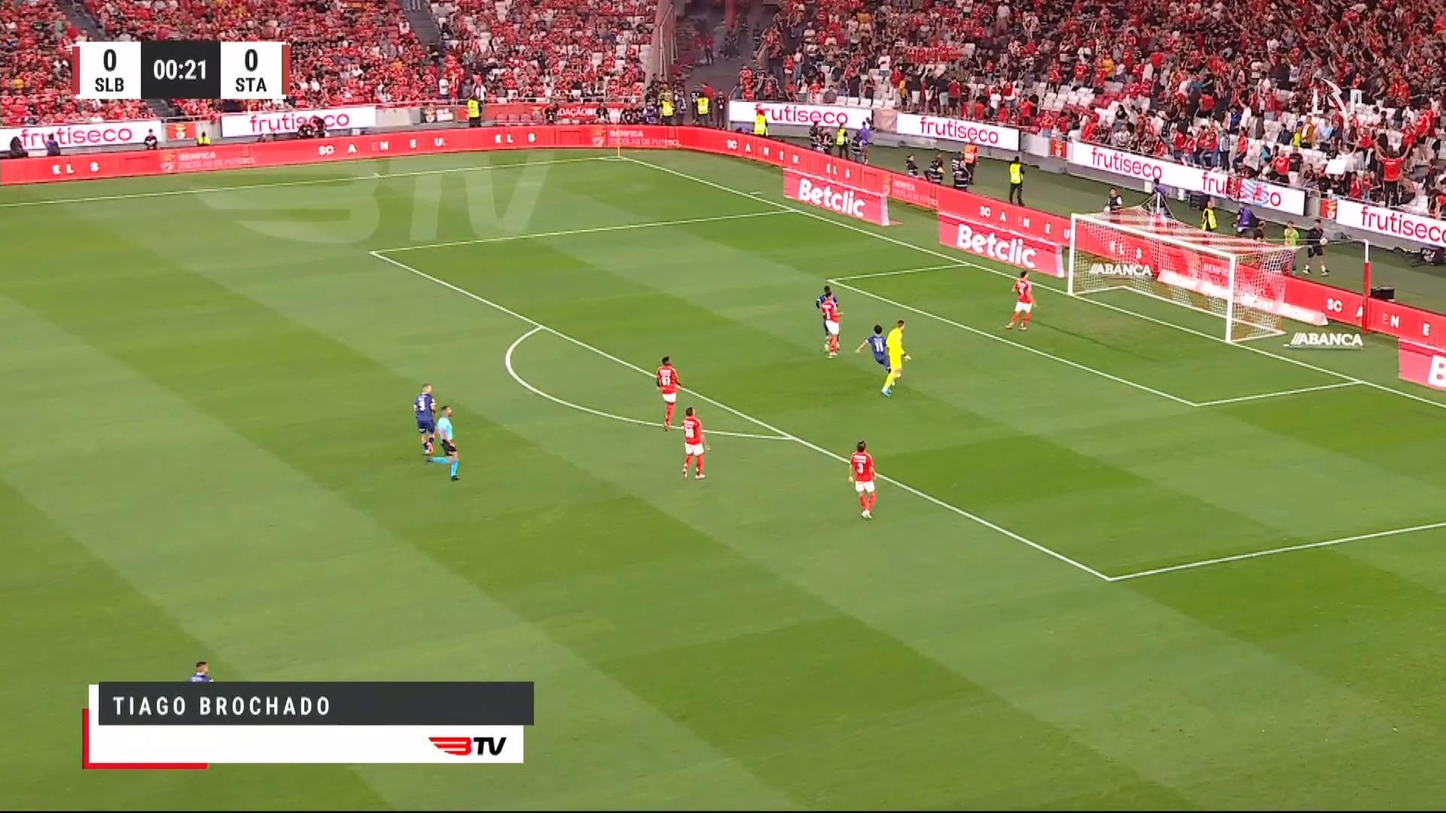ball: (903, 353, 911, 361)
goalkeeper: (880, 318, 910, 397)
player: (847, 440, 877, 519), (654, 355, 683, 431), (680, 406, 709, 480), (815, 285, 843, 358), (1005, 269, 1036, 330), (413, 382, 438, 457), (854, 324, 889, 369)
referee: (426, 404, 459, 481)
